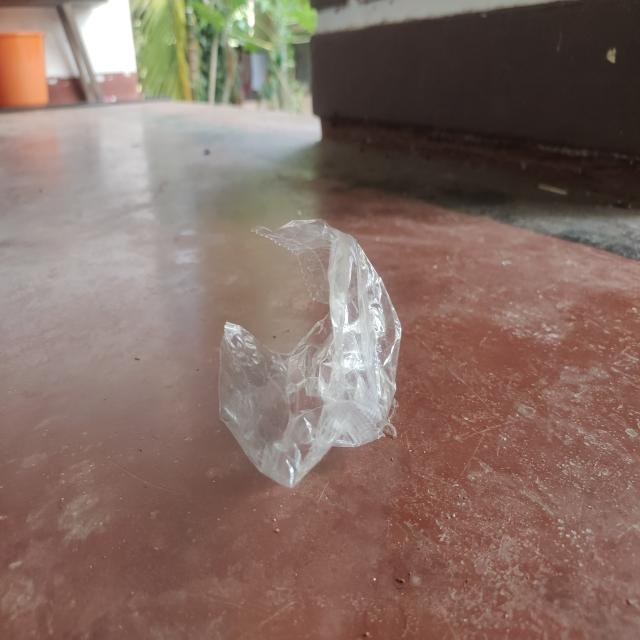plastic: (214, 215, 406, 493)
